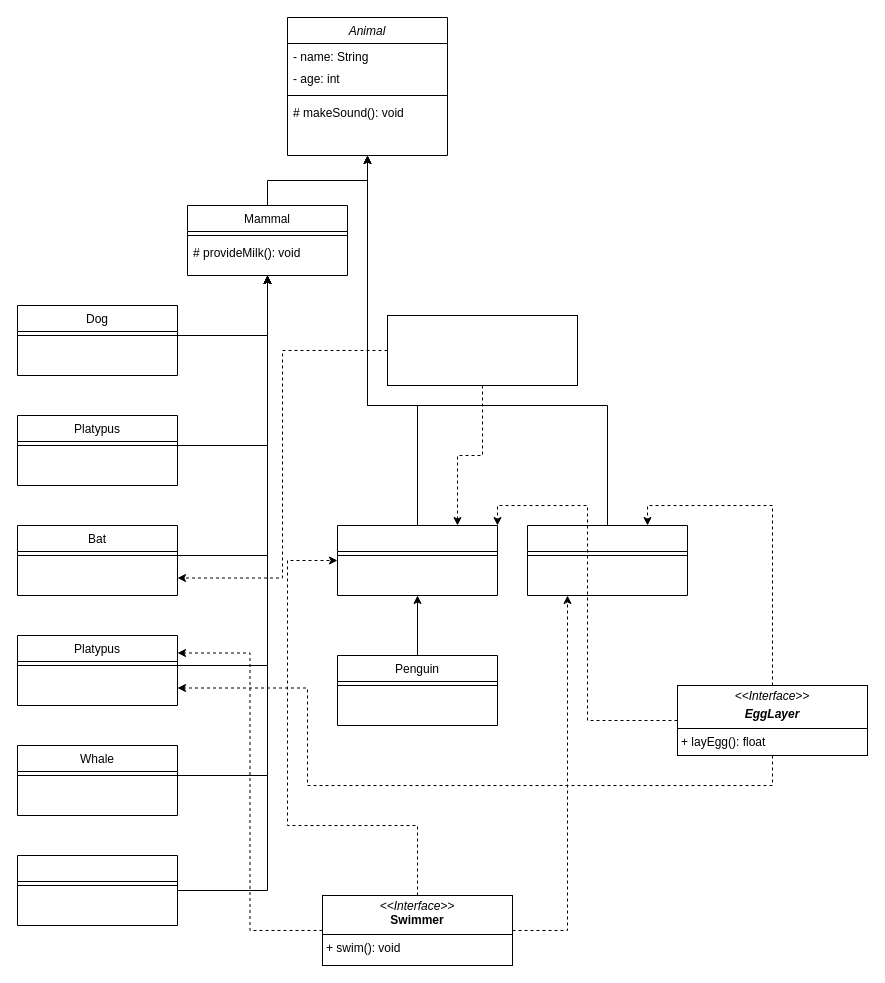
Image size: 885x983. Some labels were removed from this diagram. Here are the shapes that lost their labels. From the top down, the centre of each, then its label:
At [482,350]: "<<Interface>> Flyer + fly(): void".
At [417,560]: "Bird".
At [607,560]: "Fish".
At [97,890]: "Cat".
